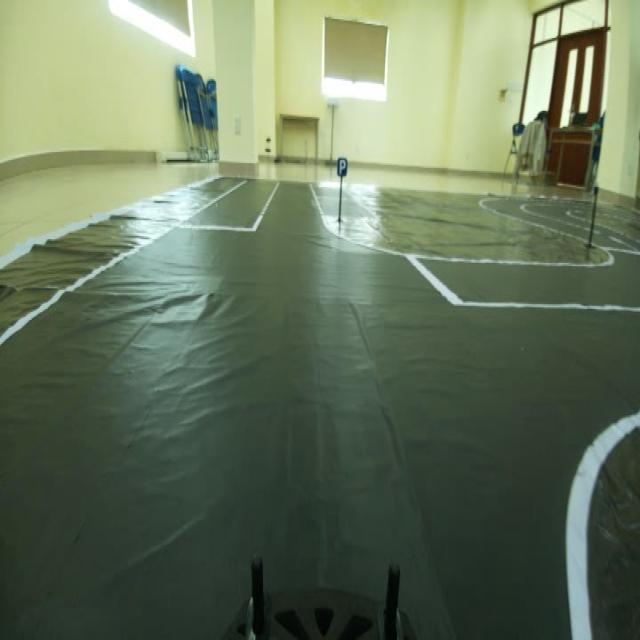parking: (330, 149, 350, 176)
